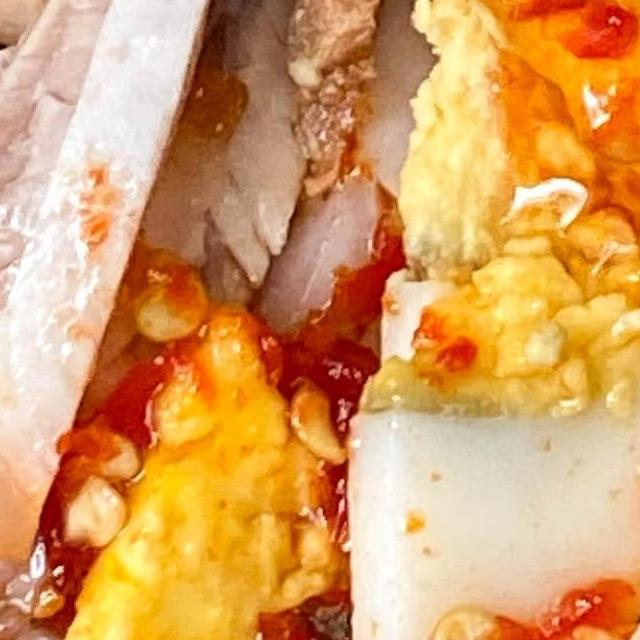com suon bi trung: (0, 0, 640, 640)
suon: (0, 0, 262, 640)
trung: (0, 284, 626, 640), (319, 0, 640, 640)
